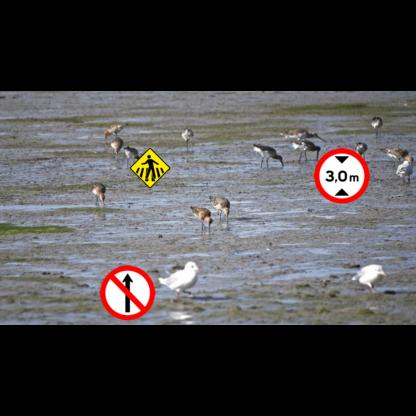A-32b: (129, 147, 171, 189)
R-15: (314, 148, 370, 203)
R-3: (100, 265, 155, 320)
